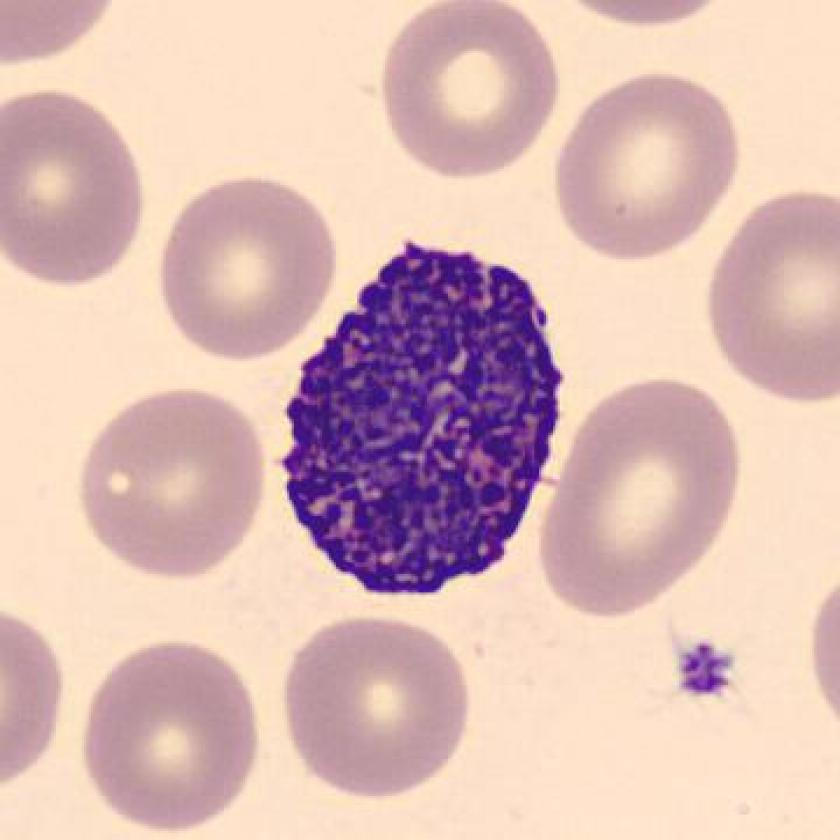basophil: (279, 226, 573, 603)
